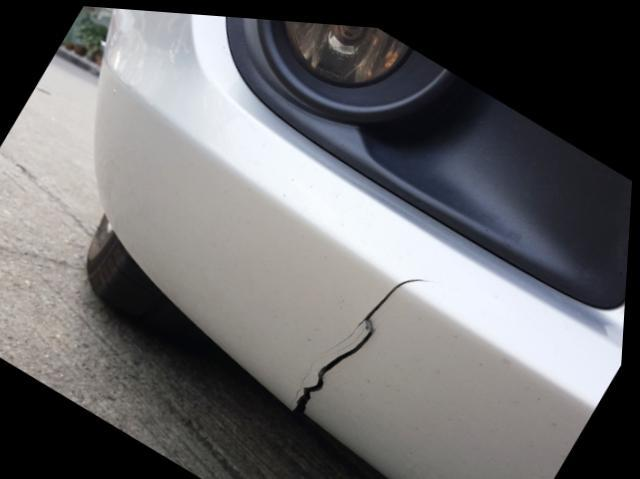crack: (297, 271, 439, 407)
